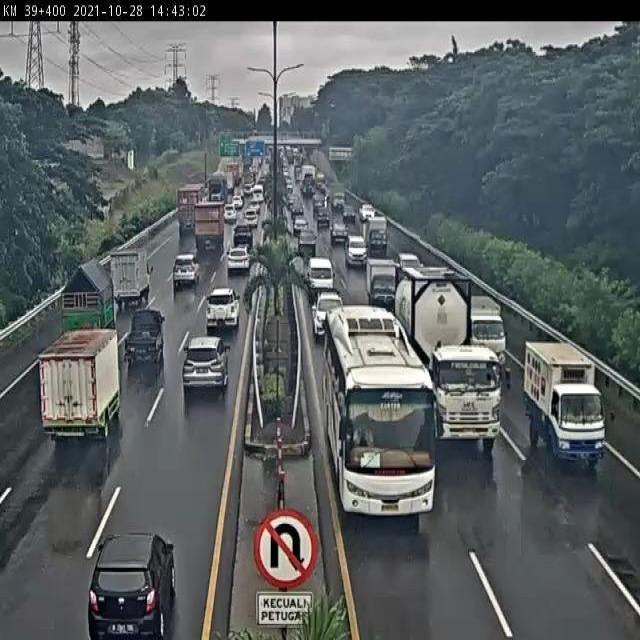car: (87, 532, 176, 640), (183, 335, 231, 396), (312, 295, 346, 343), (208, 281, 242, 320), (307, 263, 335, 303), (175, 253, 201, 287), (345, 236, 368, 271), (398, 251, 423, 281), (296, 232, 317, 259), (229, 240, 250, 265), (315, 207, 333, 236), (329, 223, 349, 247), (359, 204, 378, 229), (236, 219, 257, 240), (291, 219, 311, 240), (343, 206, 359, 226), (290, 199, 305, 219)
truck: (322, 303, 441, 520), (395, 267, 504, 453), (525, 339, 606, 468), (37, 328, 125, 441), (63, 256, 118, 348), (465, 296, 506, 372), (107, 248, 152, 307), (124, 312, 167, 368), (366, 257, 400, 311), (196, 203, 225, 253), (367, 216, 390, 257)
